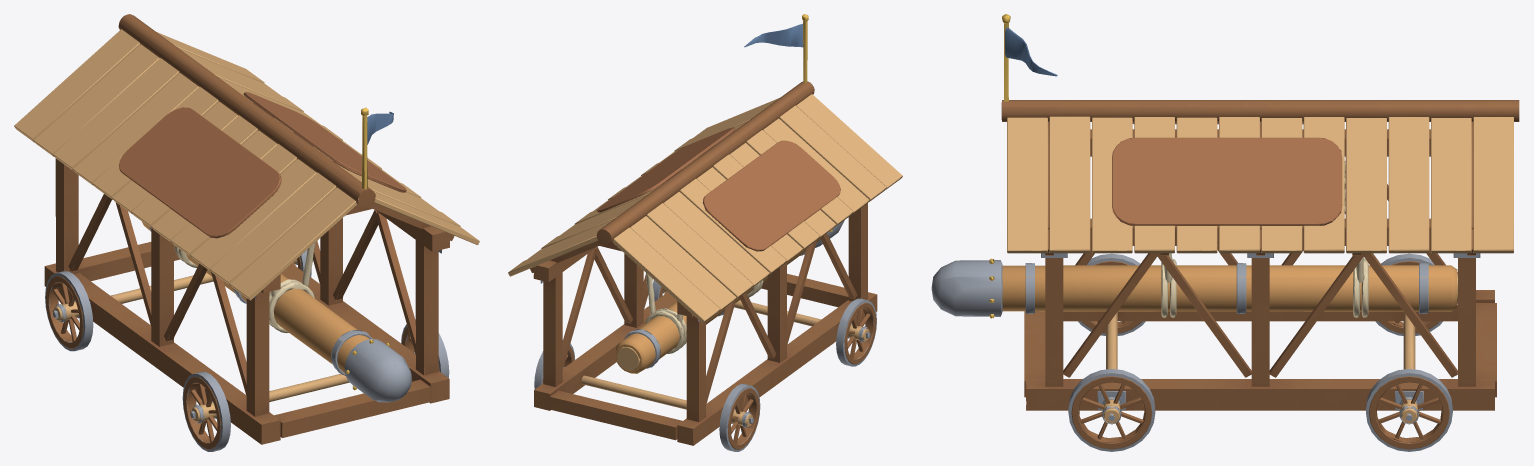
Rendered from ariete.glb.
3 renders of one model, left to right at view 1: azimuth 30°, elevation 25°; view 2: azimuth 150°, elevation 25°; view 3: azimuth 270°, elevation 25°, orthographic. The views are drawn at different scales.
Visible parts, largest first — view 1: battering-ram_body; view 2: battering-ram_body; view 3: battering-ram_body.
Part boxes in pixels (x1=…): battering-ram_body: x1=14, y1=14, x2=479, y2=451; battering-ram_body: x1=508, y1=14, x2=902, y2=451; battering-ram_body: x1=931, y1=14, x2=1519, y2=451.
Size of the model in its own units: 3.23 by 4.34 by 6.13.
9 materials, 1 textured.
